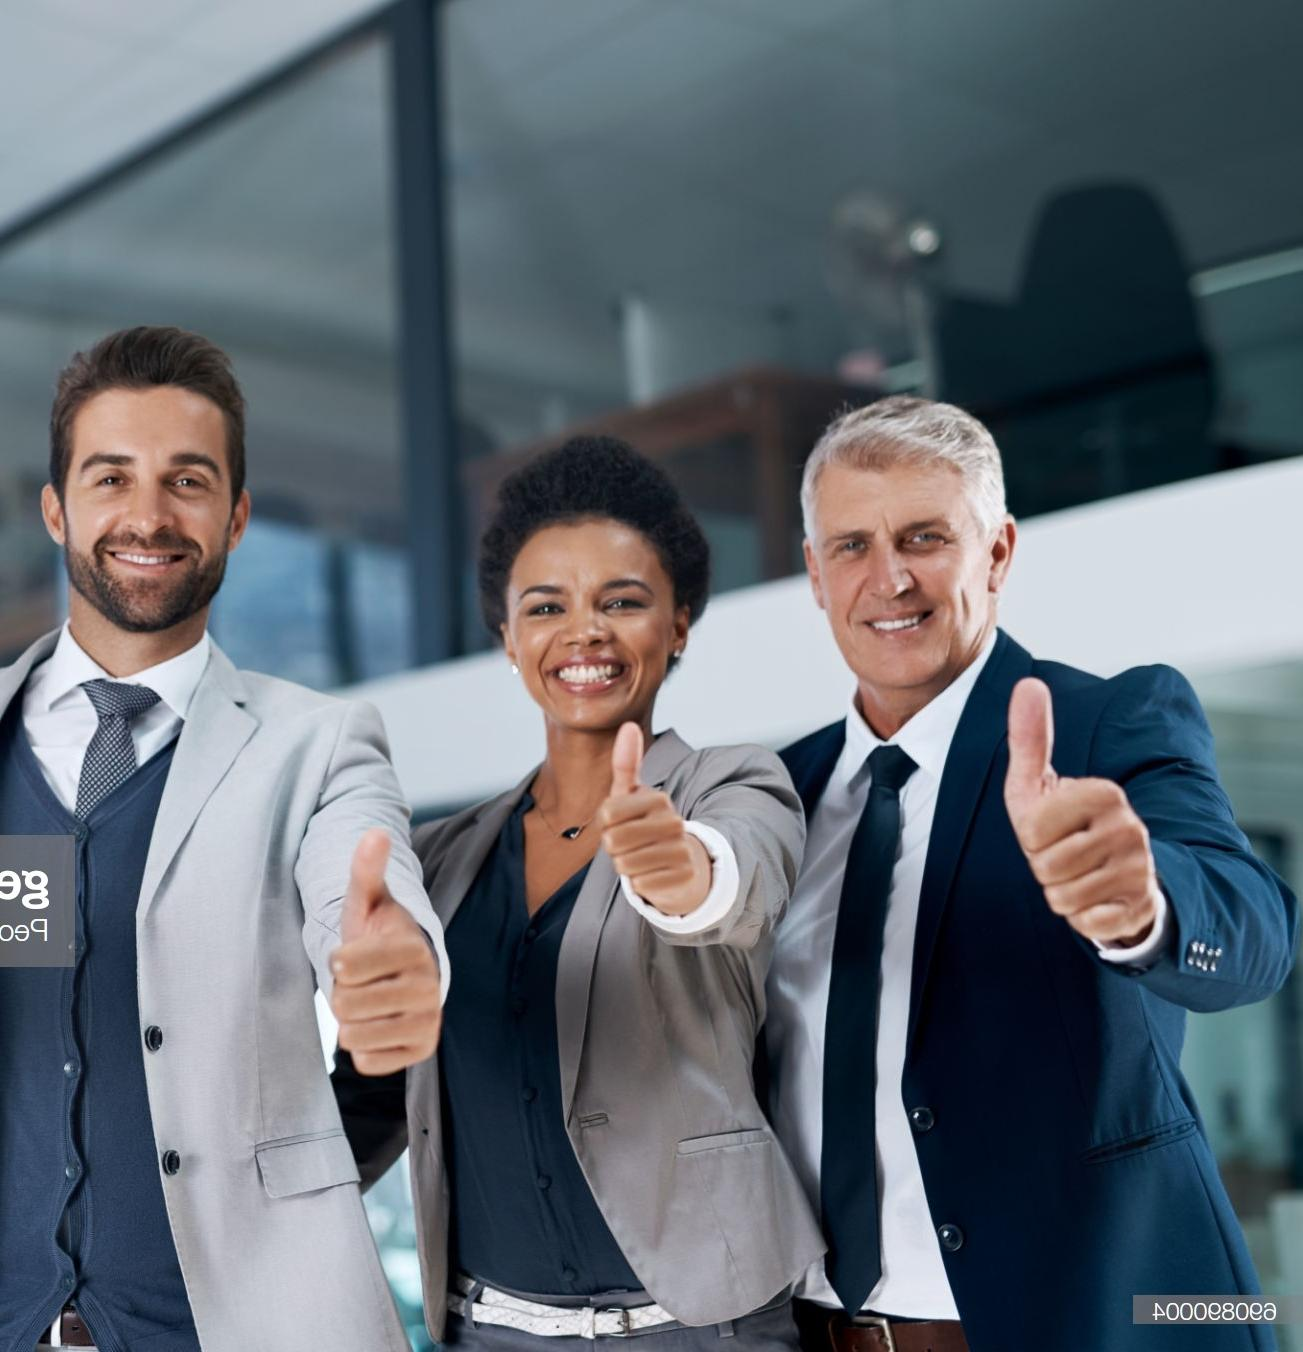thumbsup: (1004, 676, 1159, 942), (331, 831, 441, 1076), (600, 722, 696, 894)
